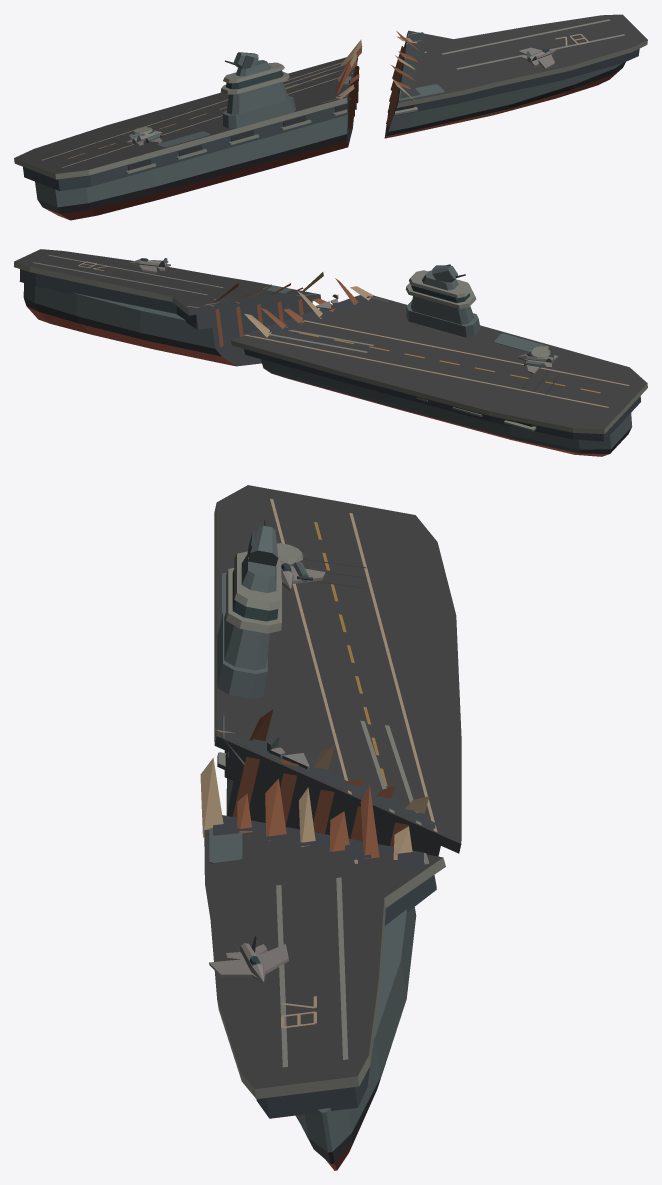
File: uss_gerald_r_ford_cvn78_destroyed.glb
3 views of the same model, one above another, from view 1: azimuth 30°, elevation 25°; view 2: azimuth 150°, elevation 25°; view 3: azimuth 270°, elevation 25° (orthographic). The views are drawn at different scales.
Visible parts, largest first — view 1: uss_gerald_r_ford_cvn78_destroyed; view 2: uss_gerald_r_ford_cvn78_destroyed; view 3: uss_gerald_r_ford_cvn78_destroyed.
Part boxes in pixels (x1,y1,x2,y2): uss_gerald_r_ford_cvn78_destroyed: [14, 14, 647, 220]; uss_gerald_r_ford_cvn78_destroyed: [14, 249, 647, 456]; uss_gerald_r_ford_cvn78_destroyed: [200, 485, 461, 1170].
Size of the model in its own units: 4.9 by 1.07 by 0.9322.
